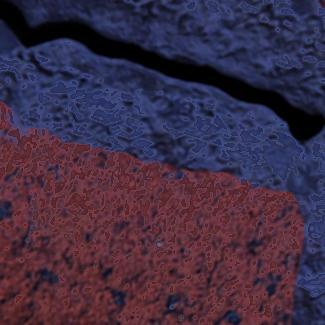brick: (0, 102, 304, 324), (317, 0, 324, 10)
crack: (0, 0, 324, 141)
